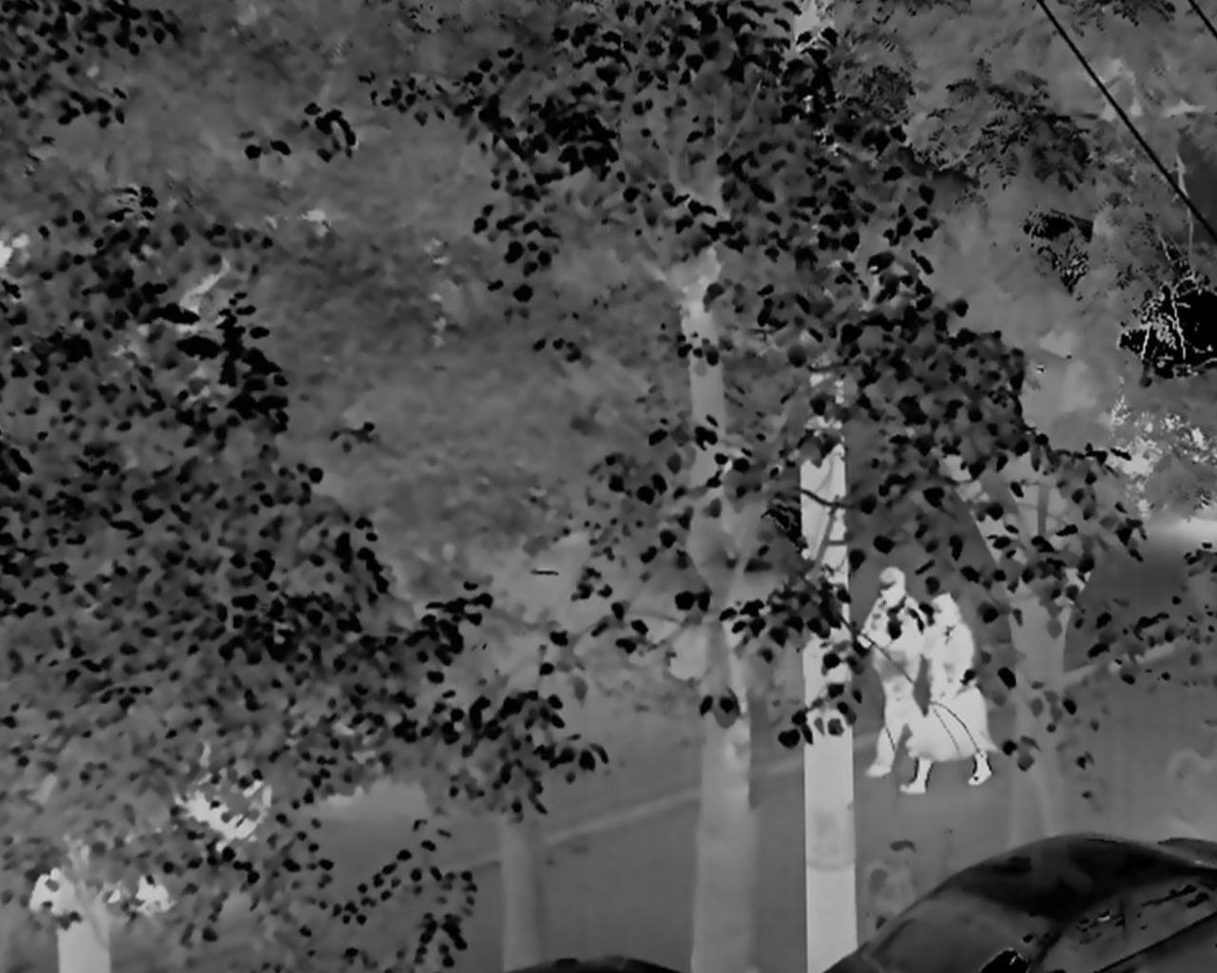person: (898, 593, 995, 802), (859, 567, 931, 784)
